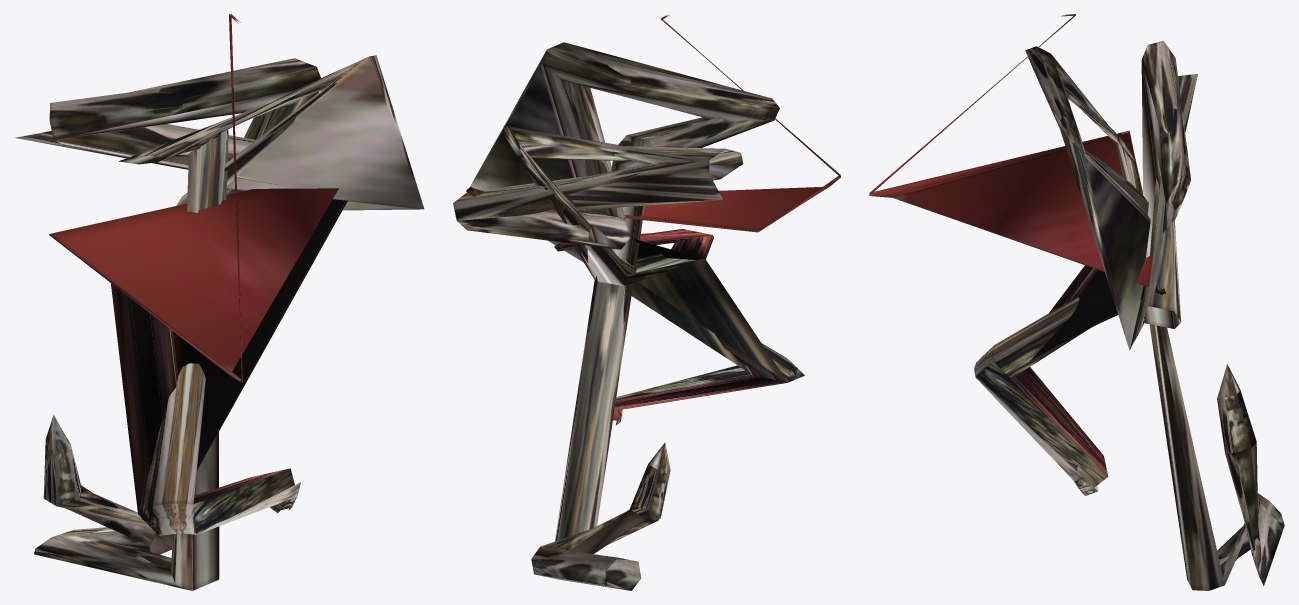
3 renders of one model, left to right at view 1: azimuth 30°, elevation 25°; view 2: azimuth 150°, elevation 25°; view 3: azimuth 270°, elevation 25°, orthographic. The views are drawn at different scales.
Visible parts, largest first — view 1: T1L5M006_6; view 2: T1L5M006_6; view 3: T1L5M006_6.
Boxes of the visible parts, <box> form: T1L5M006_6: <box>15,14,424,590</box>; T1L5M006_6: <box>453,14,840,590</box>; T1L5M006_6: <box>869,14,1284,590</box>.
Size of the model in its own units: 0.5777 by 0.9254 by 0.6292.
